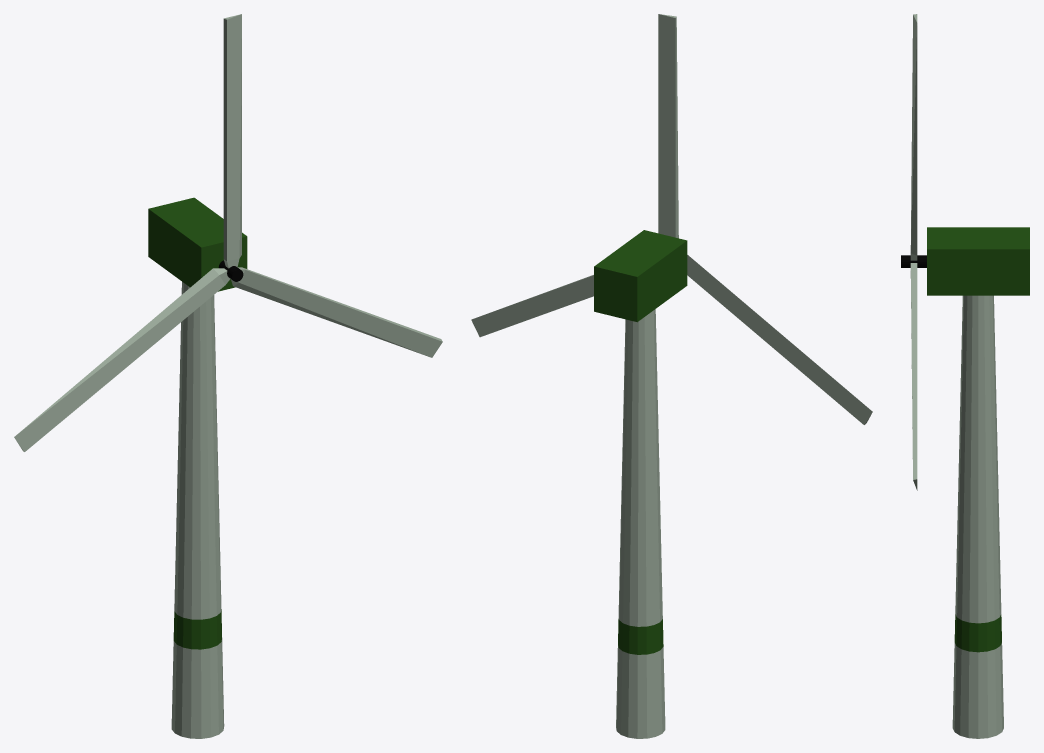
File: wind_turbine_1.glb
3 views of the same model, side by side, from view 1: azimuth 30°, elevation 25°; view 2: azimuth 150°, elevation 25°; view 3: azimuth 270°, elevation 25° (orthographic). The views are drawn at different scales.
Parts seen in each view (by area): view 1: base, Cube, Cube.002, Cube.001, Cube.003; view 2: base, Cube, Cube.001, Cube.002, Cube.003; view 3: base, Cube, Cube.001, Cube.003, Cylinder.001.
Part boxes in pixels (x1,y1,x2,y2): base: (171,282,224,738); Cube: (148,197,247,291); Cube.002: (14,268,230,451); Cube.001: (223,14,241,268); Cube.003: (231,267,442,357); base: (616,309,665,738); Cube: (594,230,687,322); Cube.001: (658,14,678,238); Cube.002: (687,255,872,424); Cube.003: (471,275,593,337); base: (952,295,1003,738); Cube: (927,227,1029,295); Cube.001: (910,14,917,260); Cube.003: (910,263,917,490); Cylinder.001: (901,255,926,267).
Size of the model in its own units: 1.86 by 3.05 by 0.5.
